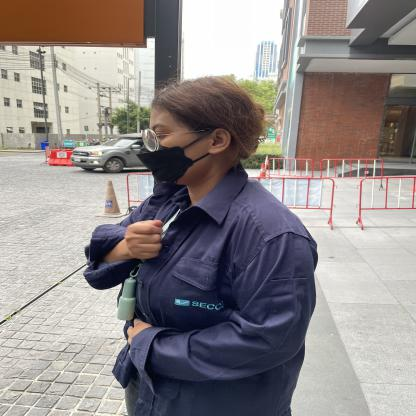Sadness: (58, 204, 230, 274)
